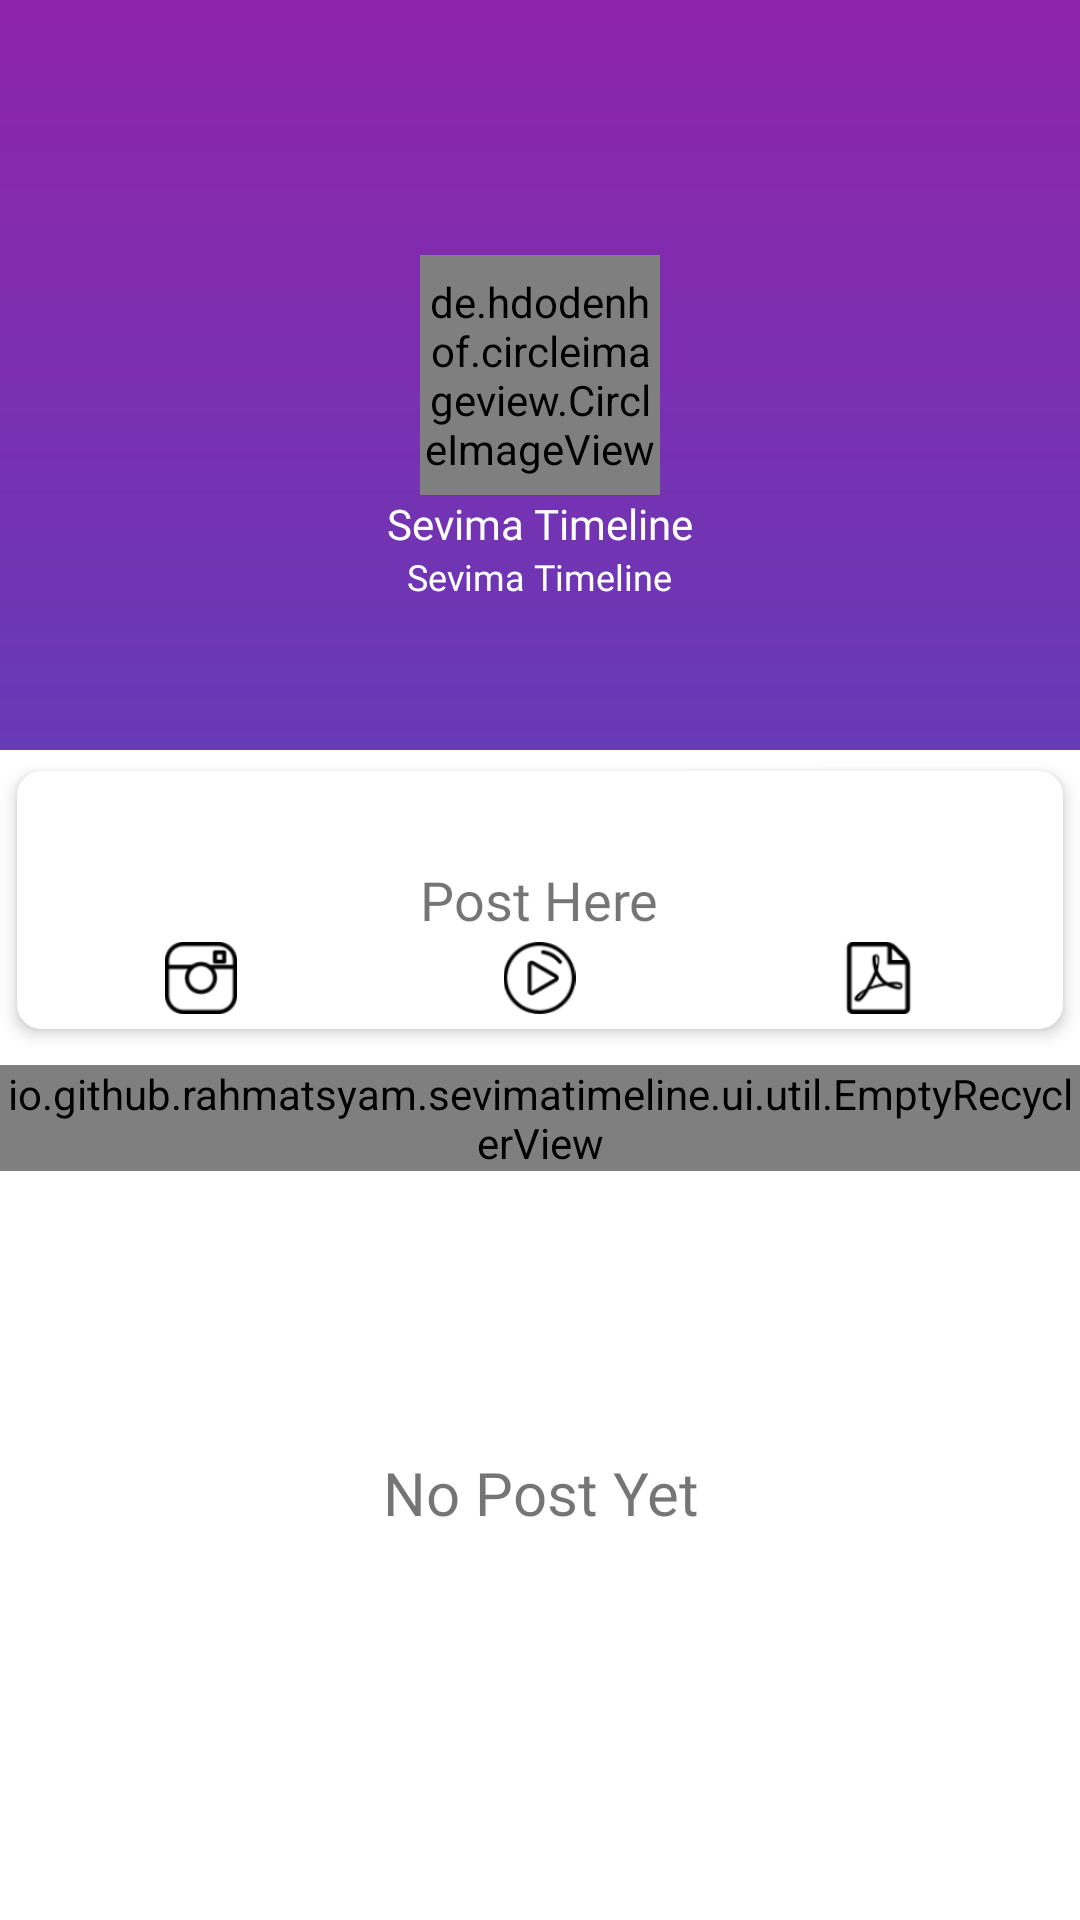

Screen size 1080x1920. Icon name, then its box in pixels as Rect(x1, y1, x2, y2):
video: Rect(504, 942, 576, 1014)
